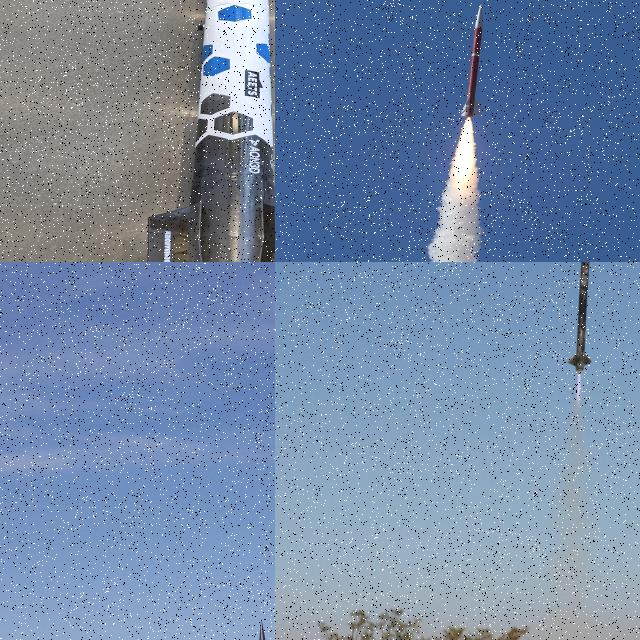Rocket: (147, 0, 275, 262), (460, 4, 485, 119), (567, 262, 592, 374), (249, 619, 275, 640)
